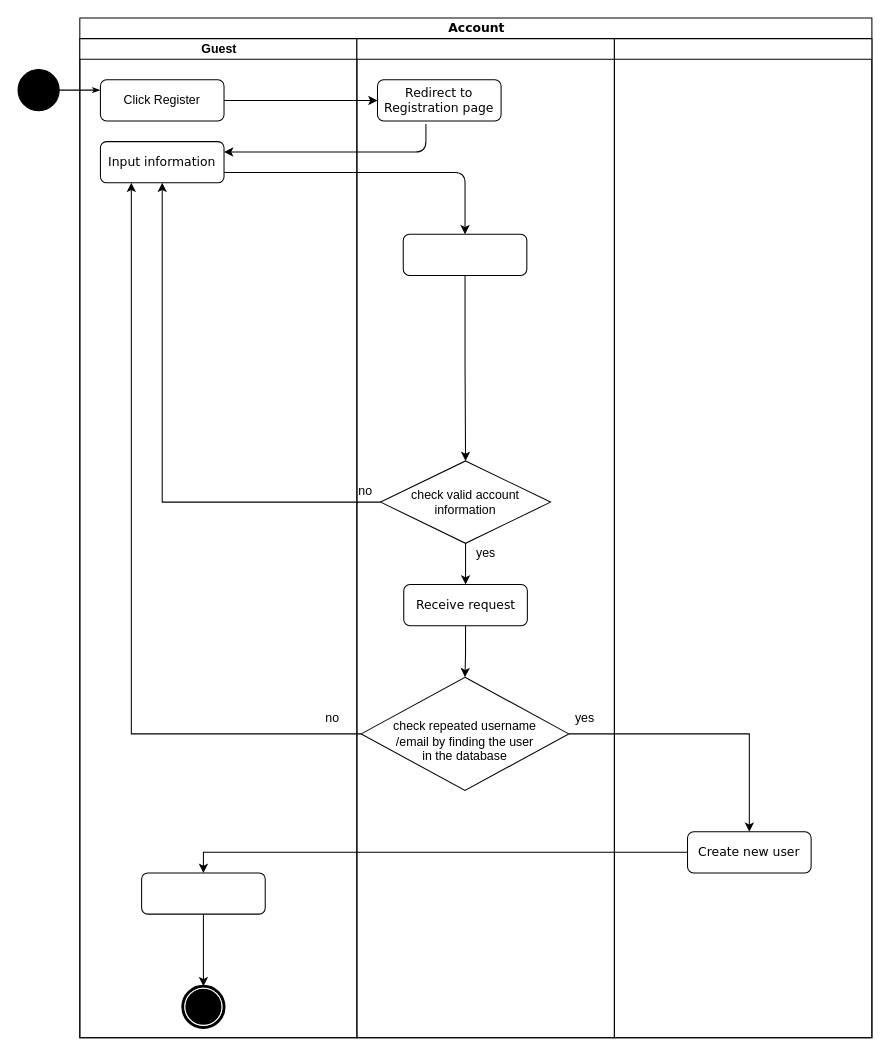
Some shapes in this 890 by 1056 pixel diagram are drawn without their labels. The box of each missing label's shape, as (x1, y1, x2, y2) in pixels:
Database: (613, 38, 872, 1038)
Receive the information: (402, 233, 527, 276)
Redirect to Login page: (141, 872, 265, 914)
Website: (356, 38, 614, 1038)
